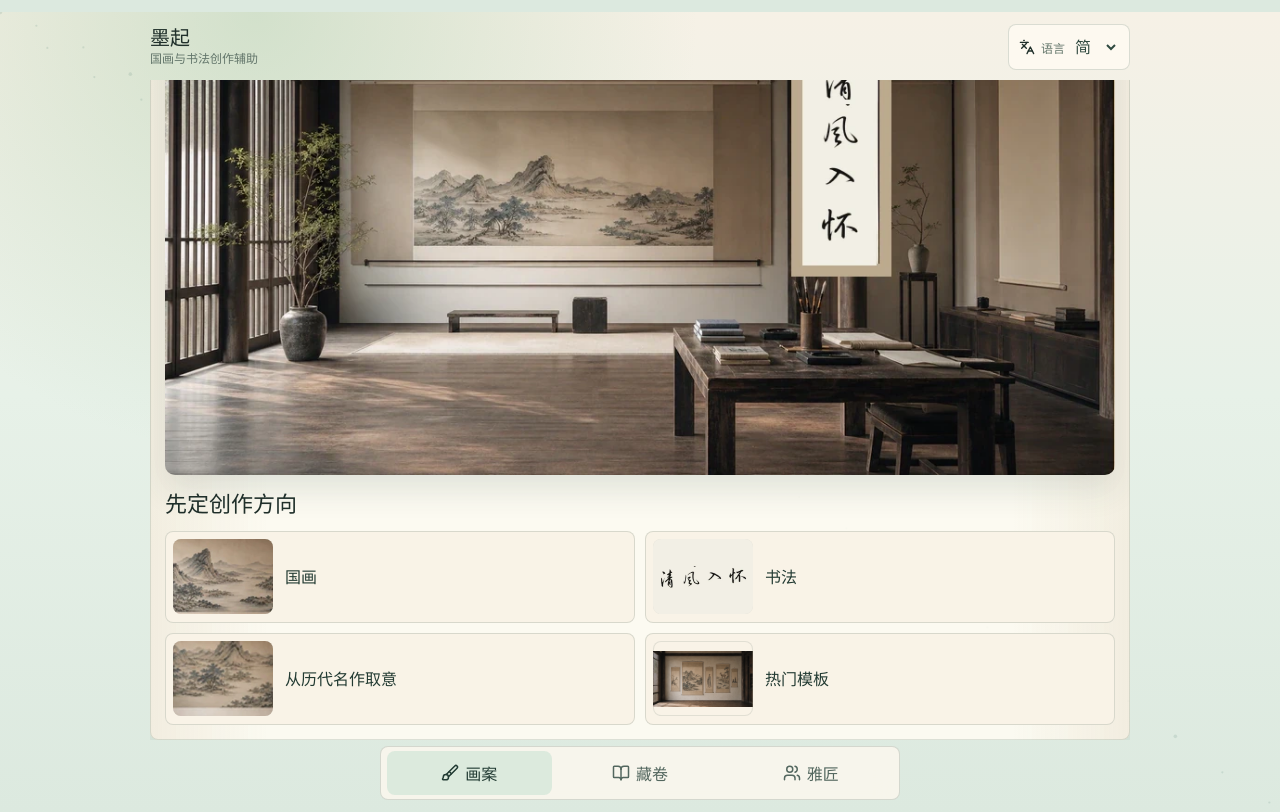
App › does not show photo controls before the final photo step
(page scrolled)
Click the button "国画".
click(223, 577)  # box [165,531,635,623]
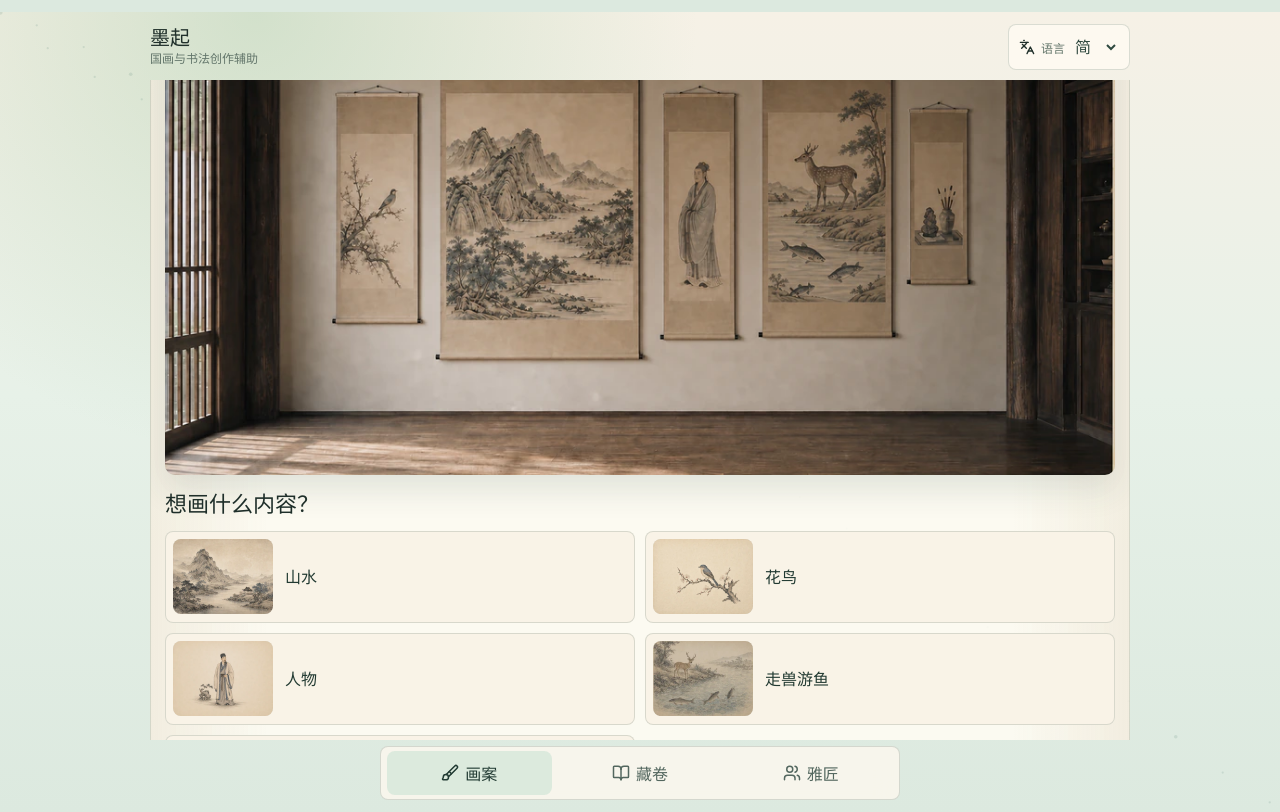
Now the heading "想画什么内容？" is shown, box [165,491,319,517]
